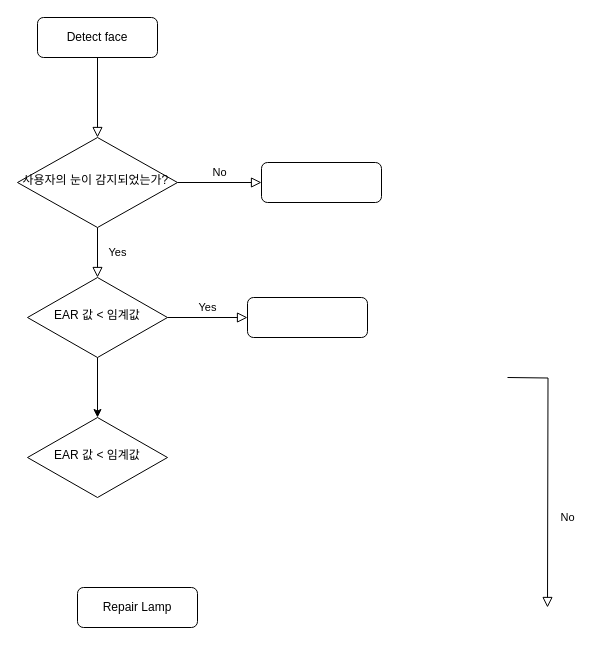
Some shapes in this 592 by 645 pixel diagram are drawn without their labels. The centre of each missing label's shape, as x and y in pixels:
Plug in lamp: (321,182)
Replace Bulb: (307,317)
